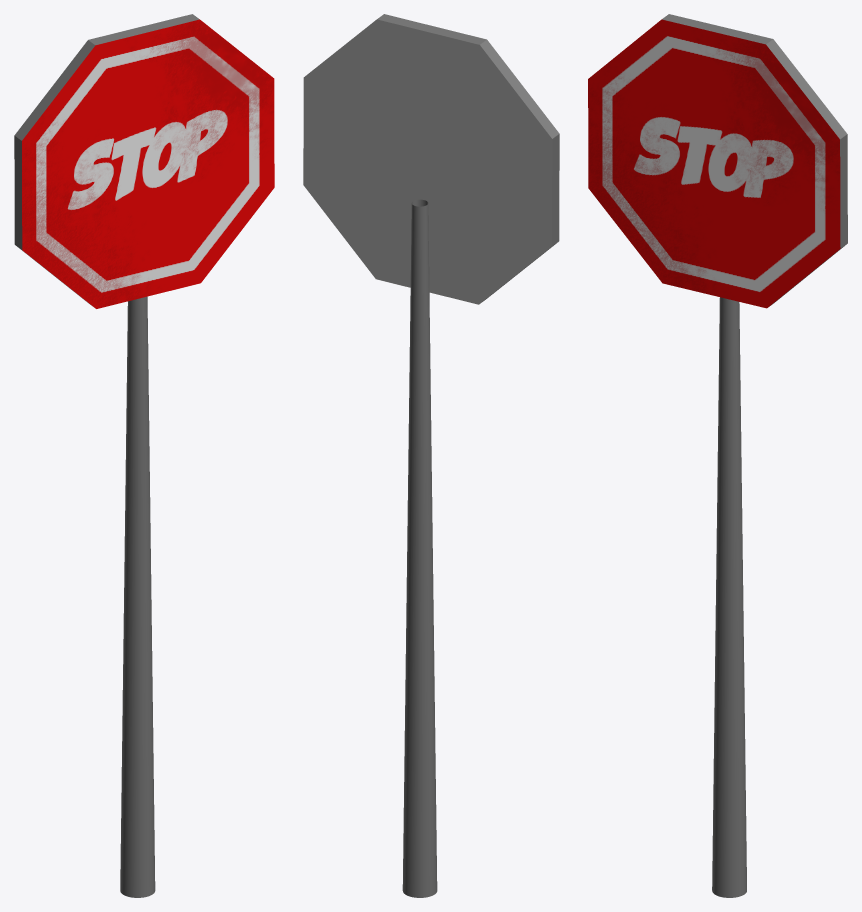
The model's file is 표지판6.fbx.
The picture shows the model from 3 angles, left to right: view 1: azimuth 30°, elevation 25°; view 2: azimuth 150°, elevation 25°; view 3: azimuth 330°, elevation 25°; orthographic projection.
Visible parts, largest first — view 1: 6; view 2: 6; view 3: 6.
Part boxes in pixels (<box>): 6: <box>14,14,274,897</box>; 6: <box>303,14,559,897</box>; 6: <box>588,14,847,897</box>.
Bounding box in the file's own units: 833 × 2734 × 124.
Materials: 1 (1 with a texture image).
